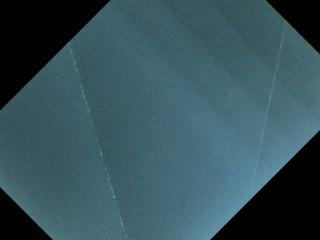crack: (66, 40, 130, 240), (247, 20, 289, 199)
